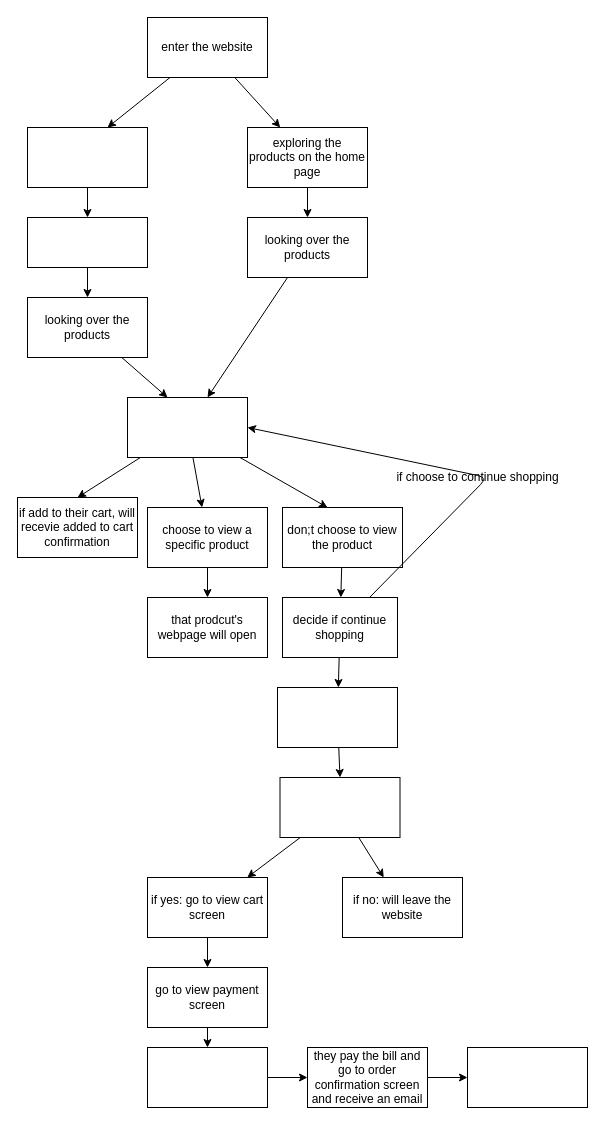
The diagram is 605 pixels wide and 1125 high, and some of its shapes have lost their labels. Here are the shapes that lost their labels. From the top down, the box of each, then its label:
(26, 126, 148, 188): searching for the product
(26, 216, 148, 268): provide inputs to the website of their search
(126, 396, 248, 458): viewing a product and deciding continue shopping
(276, 686, 398, 748): if not continue shopping
(279, 776, 400, 838): check out or not
(146, 1046, 268, 1108): have to input their payment info
